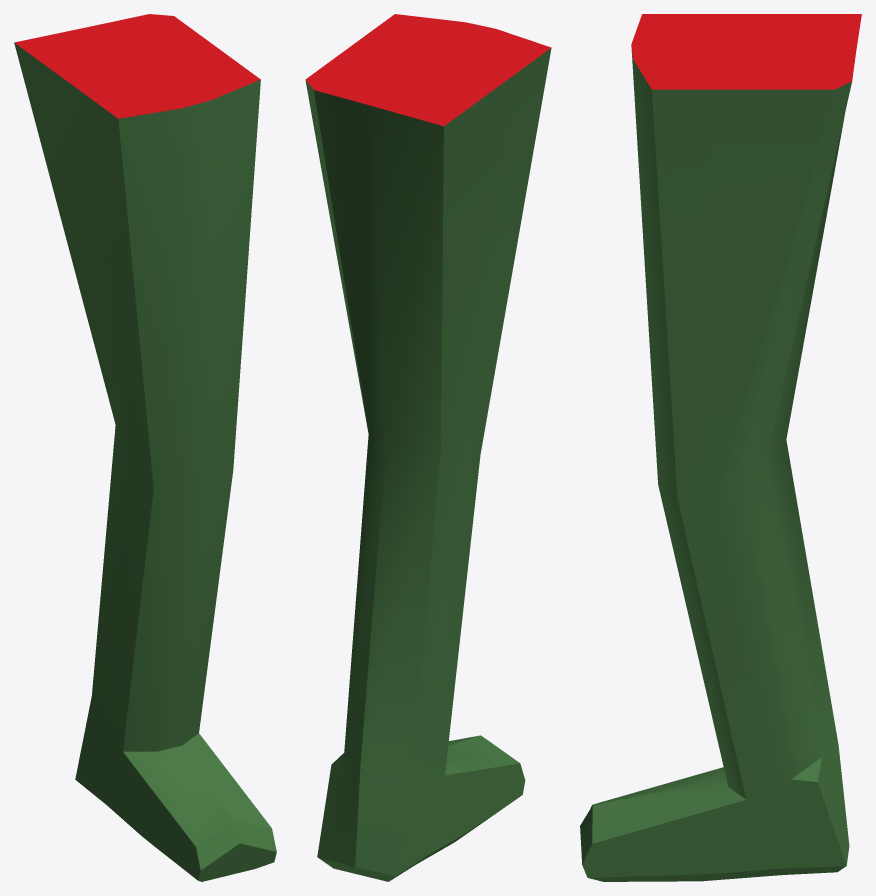
Rendered from left_leg.fbx.
The picture shows the model from 3 angles, left to right: view 1: azimuth 30°, elevation 25°; view 2: azimuth 150°, elevation 25°; view 3: azimuth 270°, elevation 25°; orthographic projection. The views are drawn at different scales.
Visible parts, largest first — view 1: Left Leg; view 2: Left Leg; view 3: Left Leg.
Part boxes in pixels (x1=…): Left Leg: x1=14, y1=14, x2=276, y2=881; Left Leg: x1=305, y1=14, x2=551, y2=881; Left Leg: x1=580, y1=14, x2=861, y2=881.
Bounding box in the file's own units: 43.05 × 214 × 67.77.
